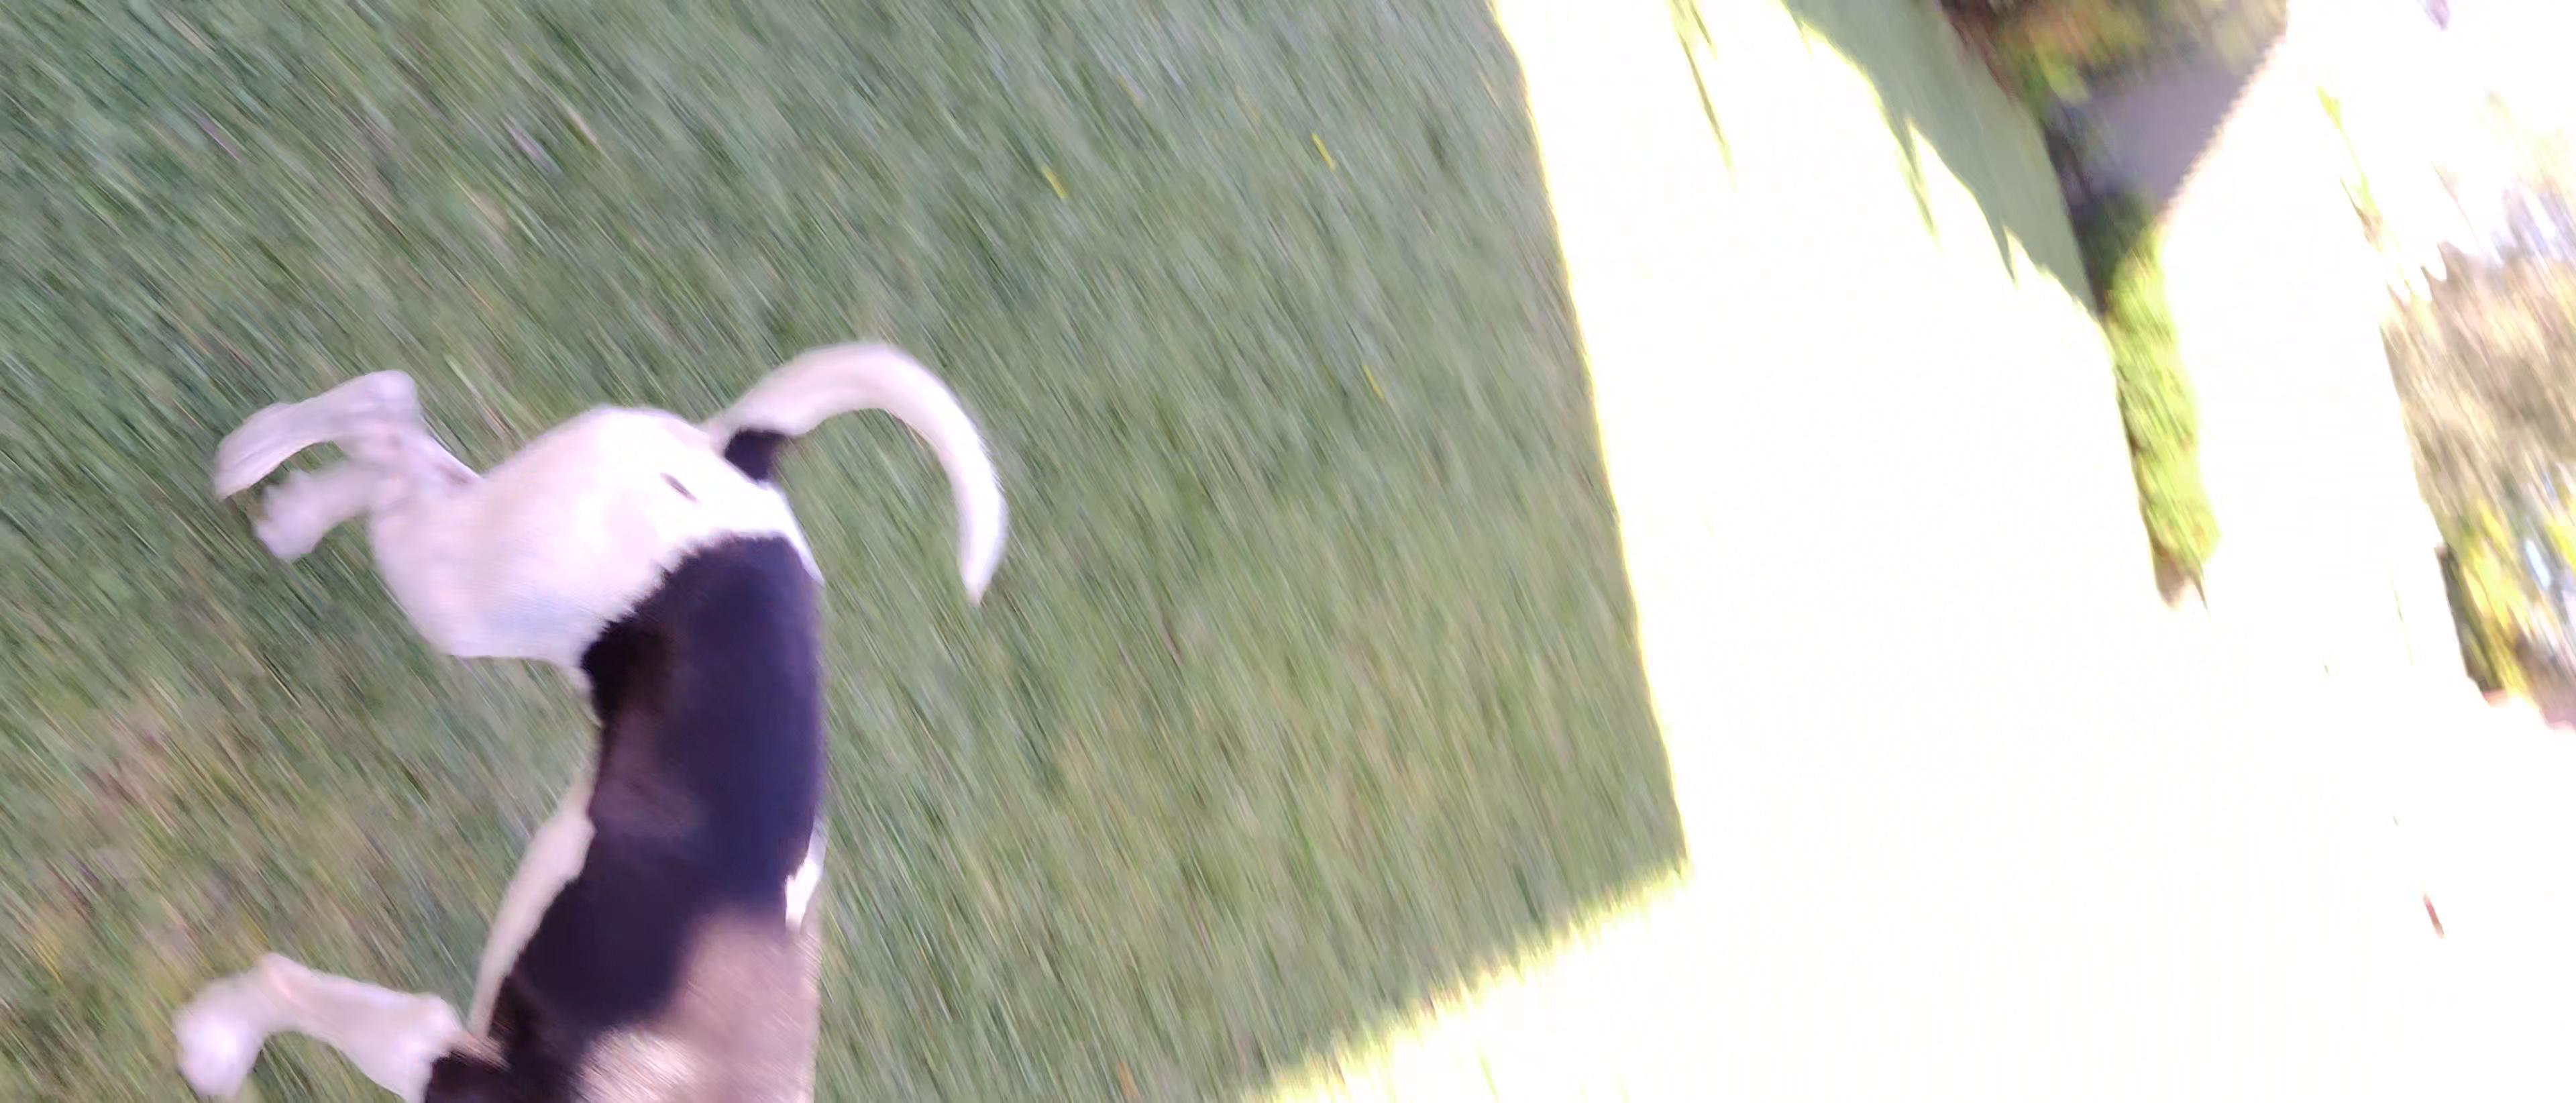Dog: (151, 227, 1035, 1103)
